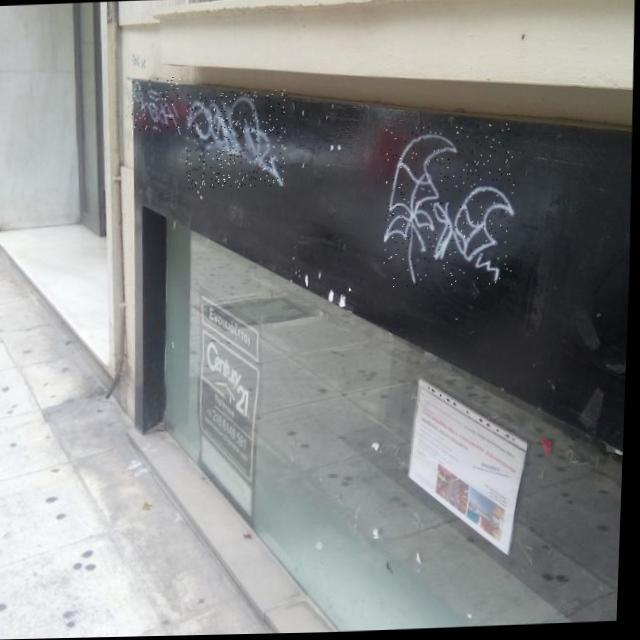-: (382, 126, 520, 290), (184, 90, 290, 190), (131, 77, 183, 131)
